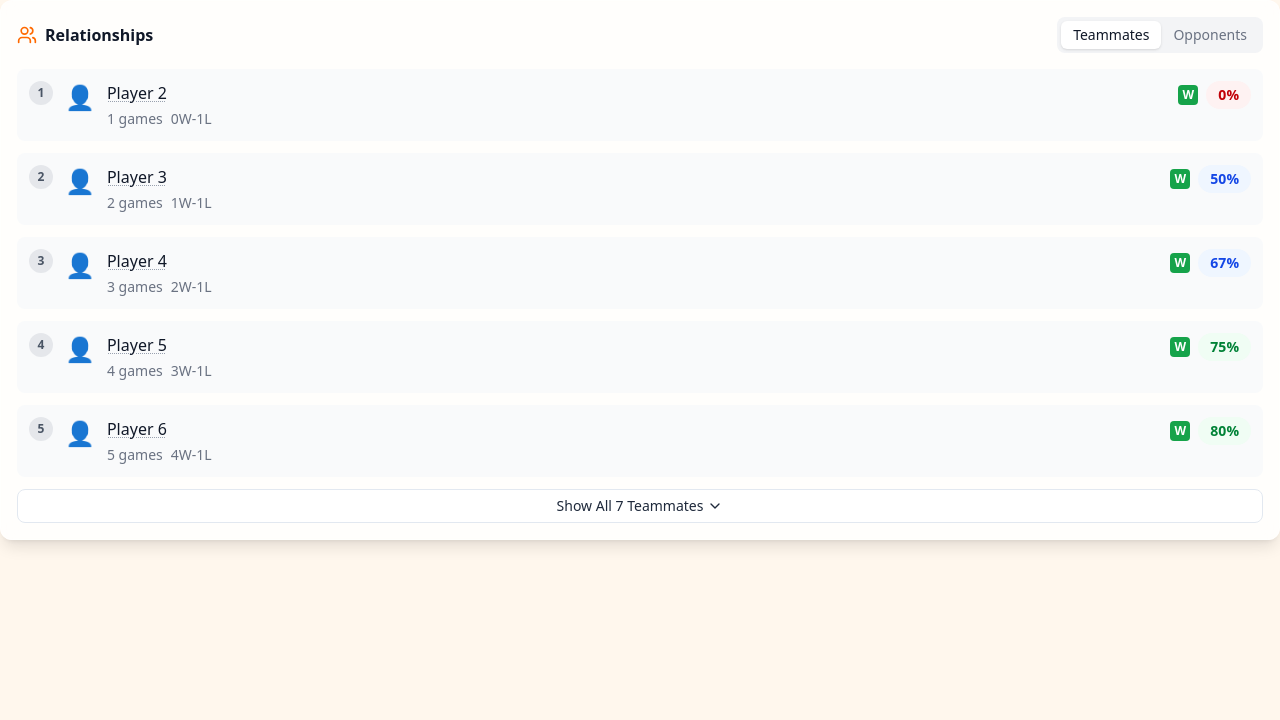
Test: PlayerRelationshipStats › should expand teammates list when expand button is clicked
Expected: the text "Player 7" is not shown
Click expand
What coordinates should you click on to do the following:
click the button "Show All 7 Teammates"
I would click on:
 (640, 506)
Its box is [17,489,1263,523].
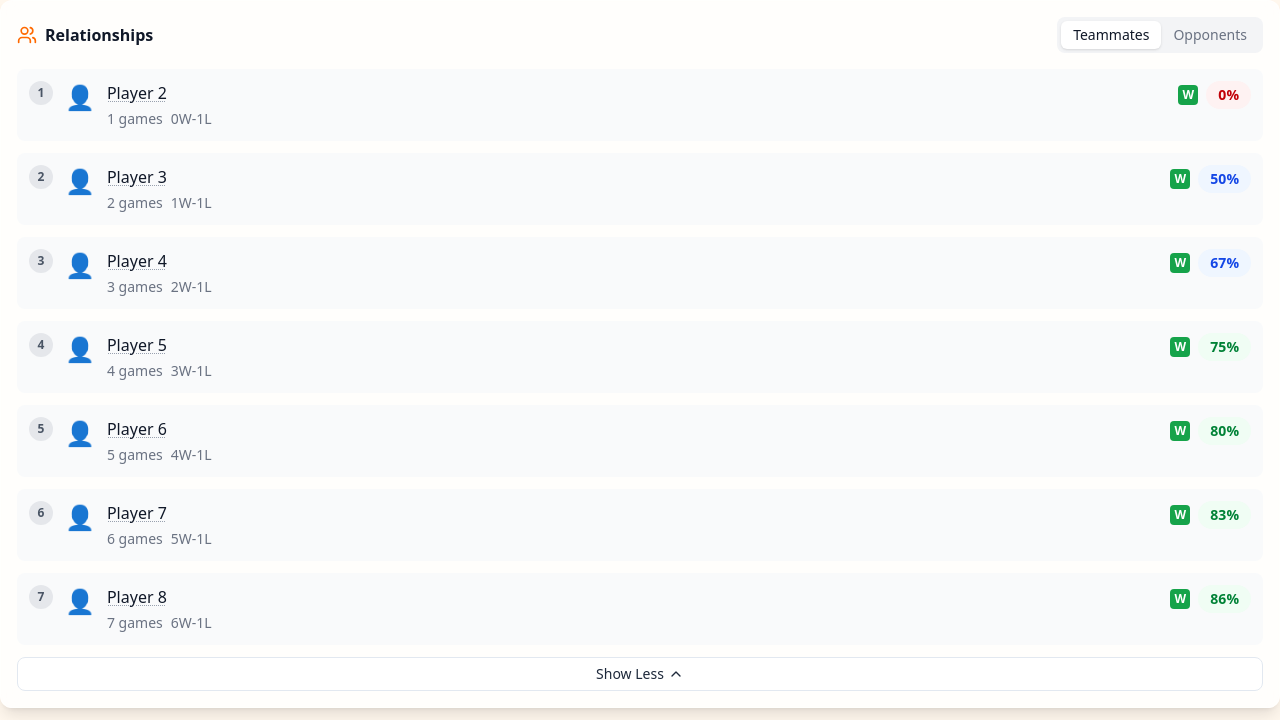
Result: the link "Player 7" is shown at [107,501,167,525]
Result: the button "Show Less" is shown at [17,657,1263,691]
